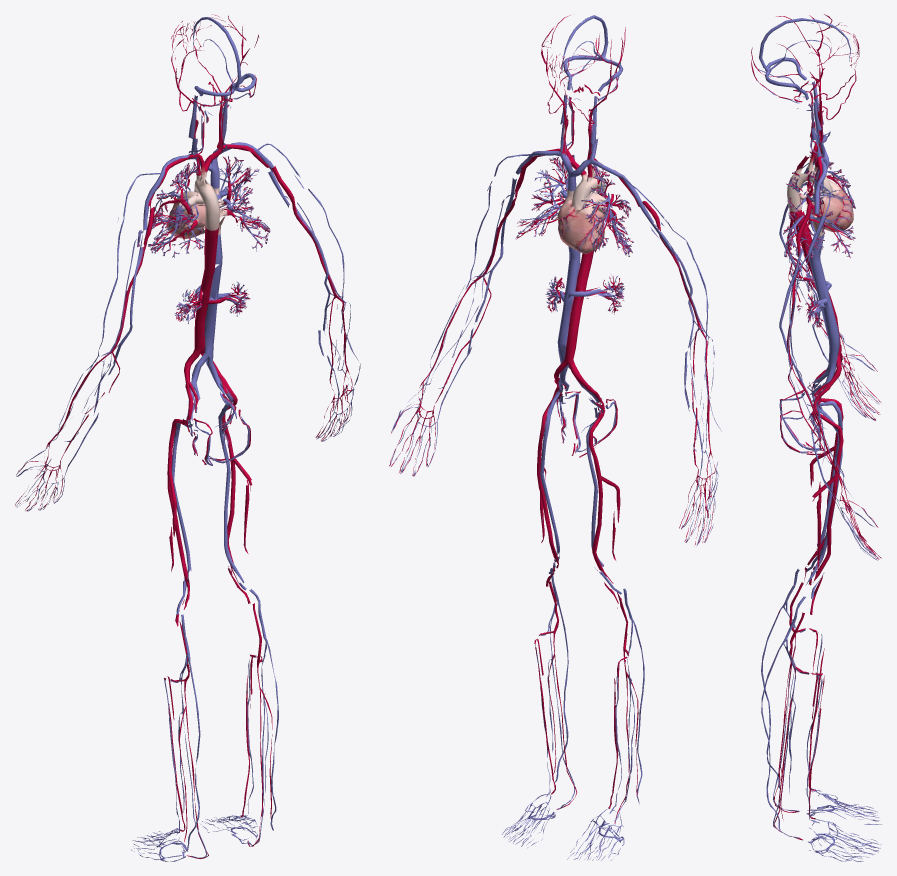
Rendered from circulatory-system.tablet.glb.
3 views of the same model, side by side, from view 1: azimuth 30°, elevation 25°; view 2: azimuth 150°, elevation 25°; view 3: azimuth 270°, elevation 25° (orthographic). The views are drawn at different scales.
Visible parts, largest first — view 1: circulatory_system_0; view 2: circulatory_system_0; view 3: circulatory_system_0.
Boxes of the visible parts, x1,y1,x2,y2 form: circulatory_system_0: (15,14,360,861); circulatory_system_0: (389,15,721,860); circulatory_system_0: (751,14,881,861).
Bounding box in the file's own units: 23903 × 58083 × 8473.
Materials: 1 (1 with a texture image).
